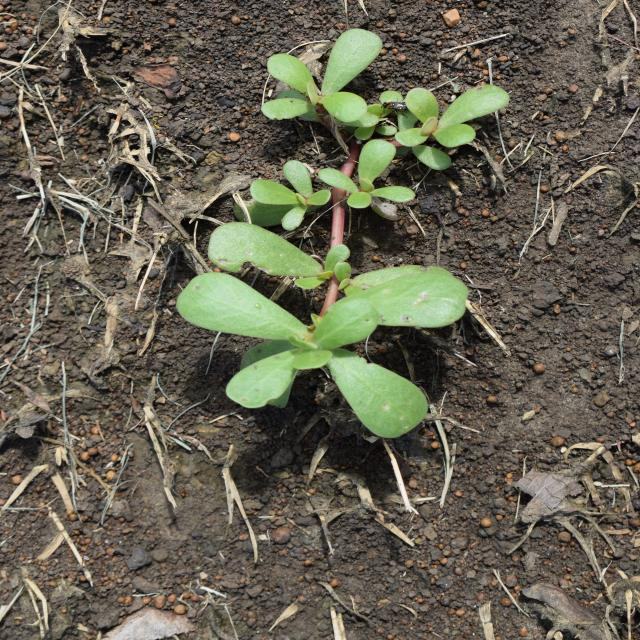Purslane: (176, 28, 510, 438)
